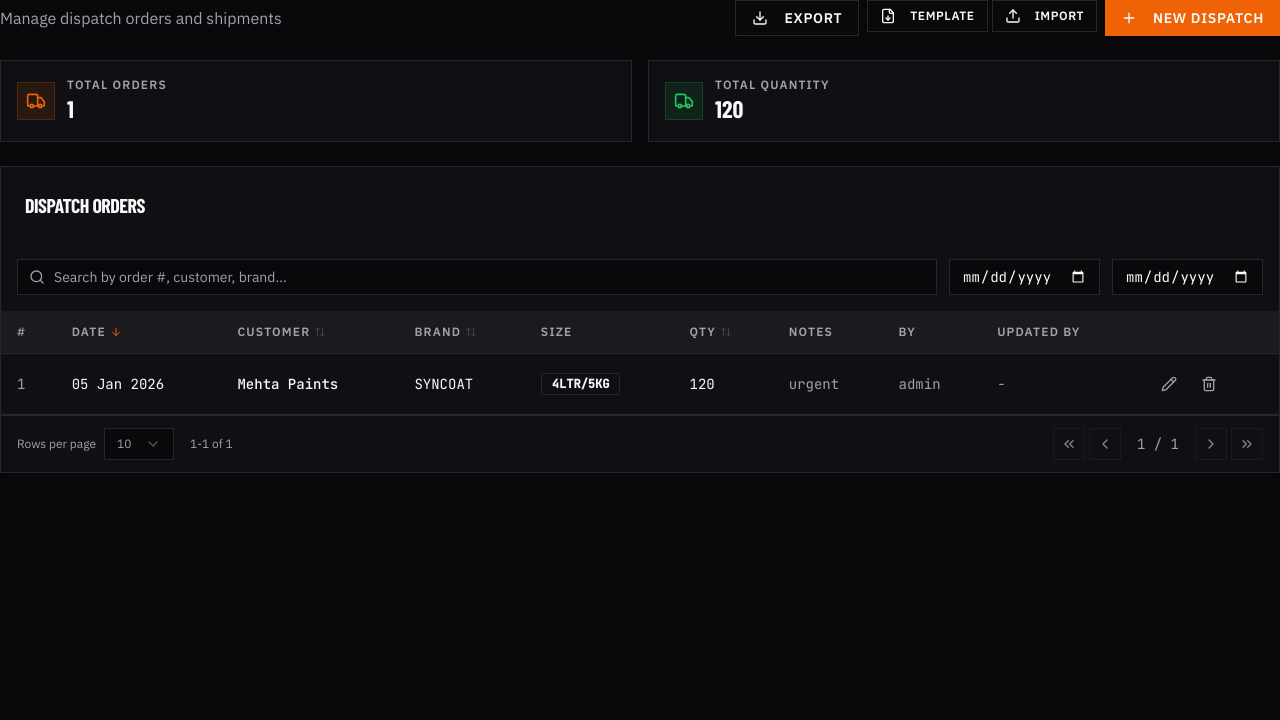
Test: refuses to stage an item with quantity 0
Expected: the table with test id "dispatch-table" is shown, [1, 311, 1279, 415]
Click the button with test id "add-dispatch-btn" at point(1192, 18), box [1105, 0, 1279, 36]
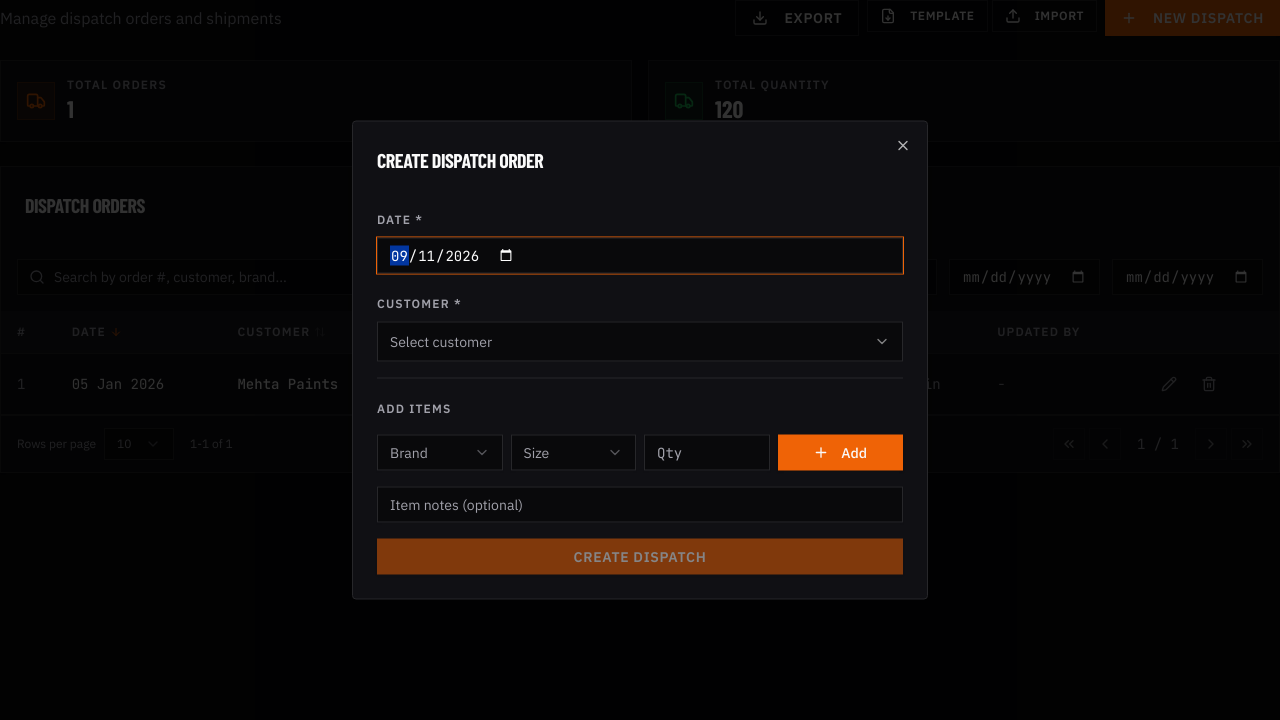
Type "0" into the number field with test id "dispatch-quantity" at point(707, 452), box [644, 434, 770, 470]
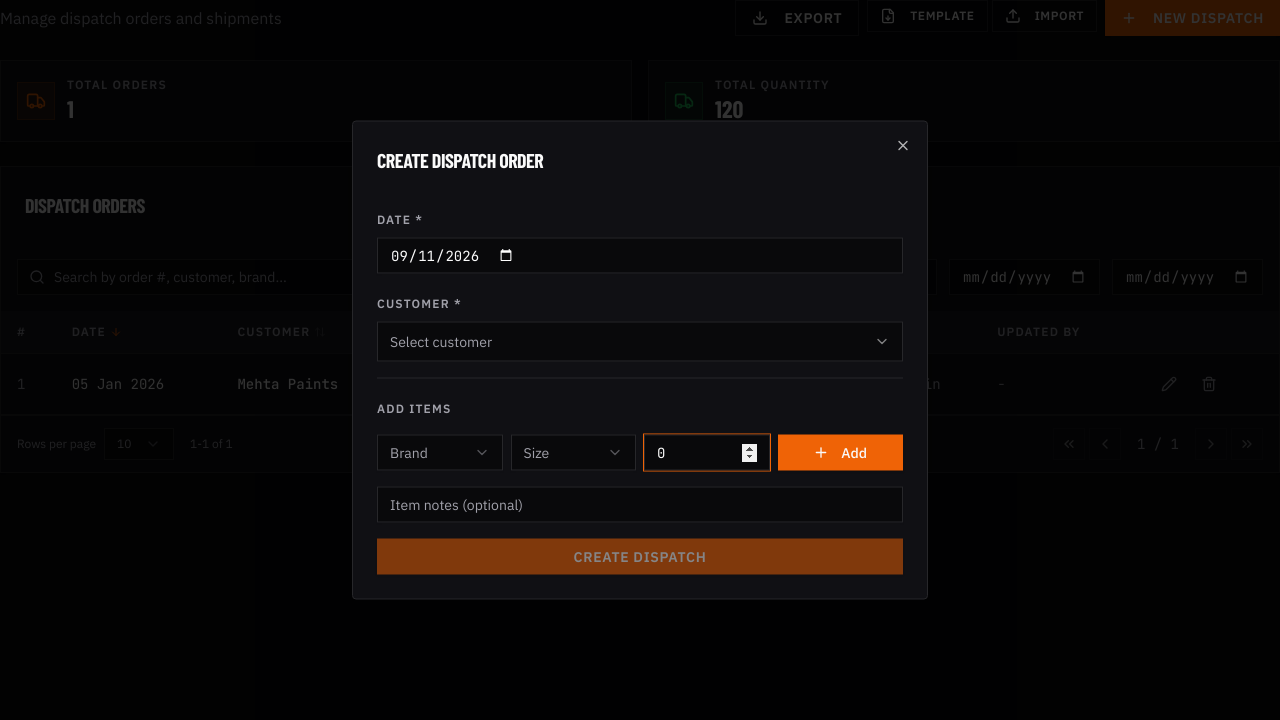
Click the button with test id "add-item-btn" at point(840, 452), box [778, 434, 903, 470]
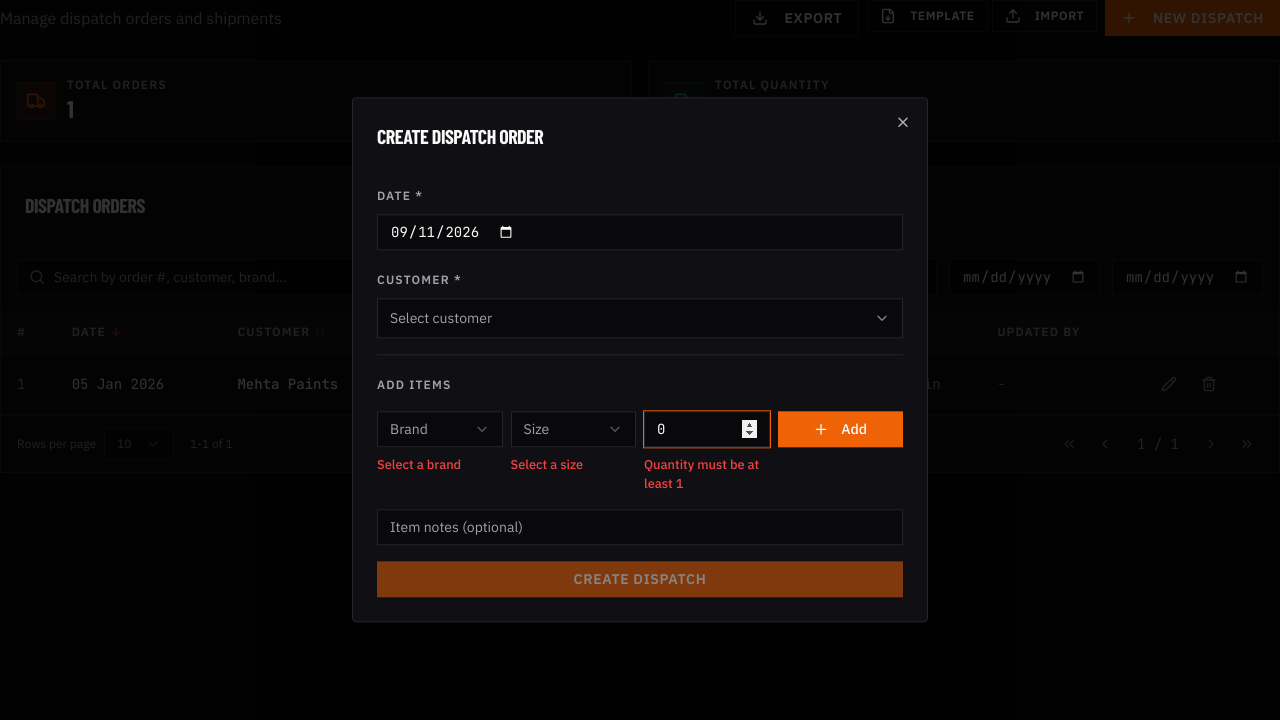
Expected: the text "Quantity must be at least 1" is shown, [644, 455, 770, 494]
